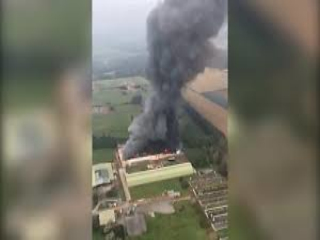smoke: (123, 3, 219, 159)
